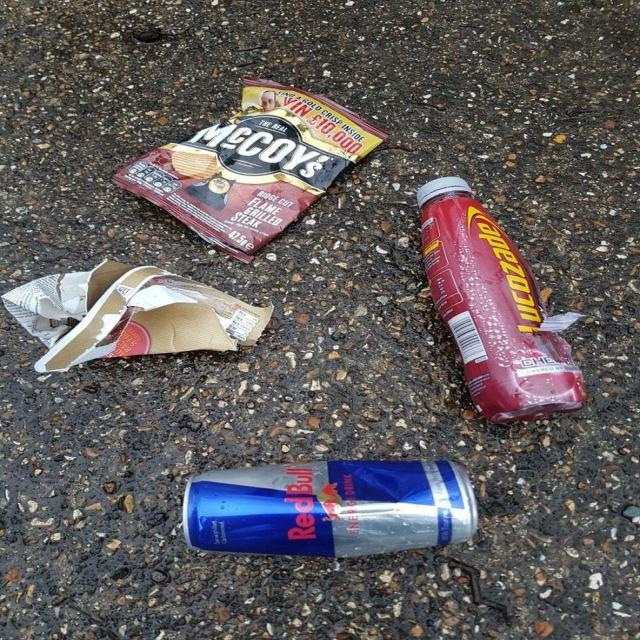can: (181, 461, 480, 561)
cardboard: (0, 258, 276, 374)
plastic bottle: (422, 192, 594, 423)
plastic bottle cap: (418, 175, 477, 203)
